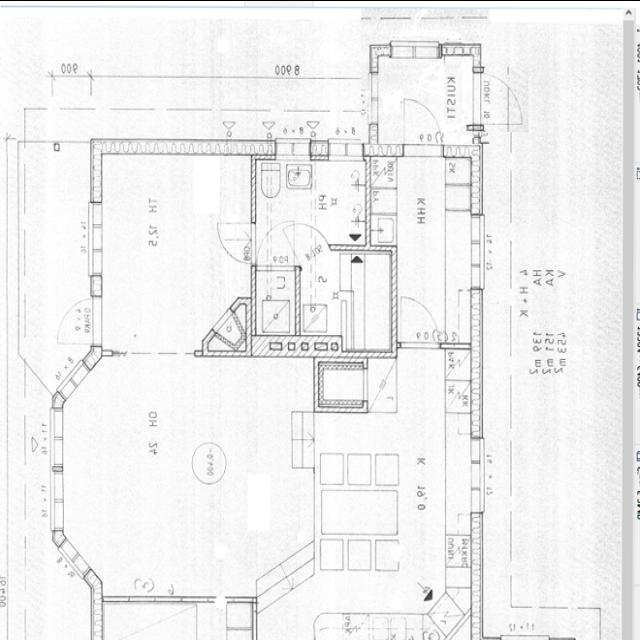door: (262, 215, 335, 277), (205, 209, 261, 271), (396, 90, 443, 155), (392, 297, 439, 347)
window: (43, 517, 108, 592), (46, 350, 102, 406), (42, 409, 68, 524), (461, 434, 491, 522), (79, 197, 104, 277), (467, 202, 487, 296), (386, 31, 440, 64), (466, 67, 492, 132), (361, 68, 382, 128), (324, 138, 367, 160), (267, 136, 310, 156)
